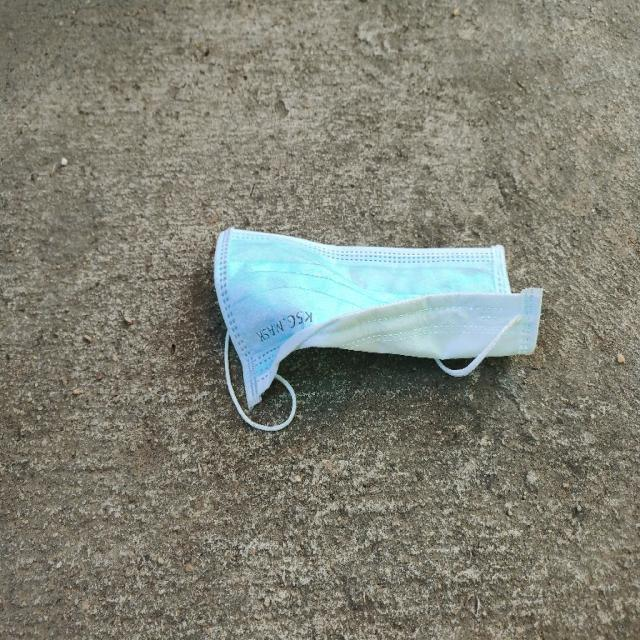face mask: (207, 219, 536, 419)
